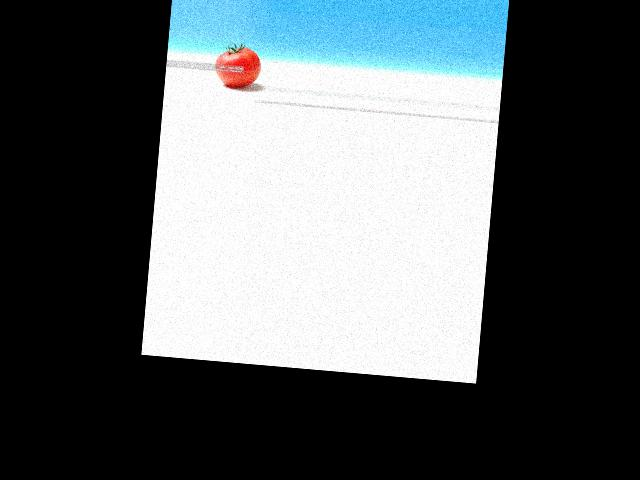tomato: (213, 45, 261, 87)
